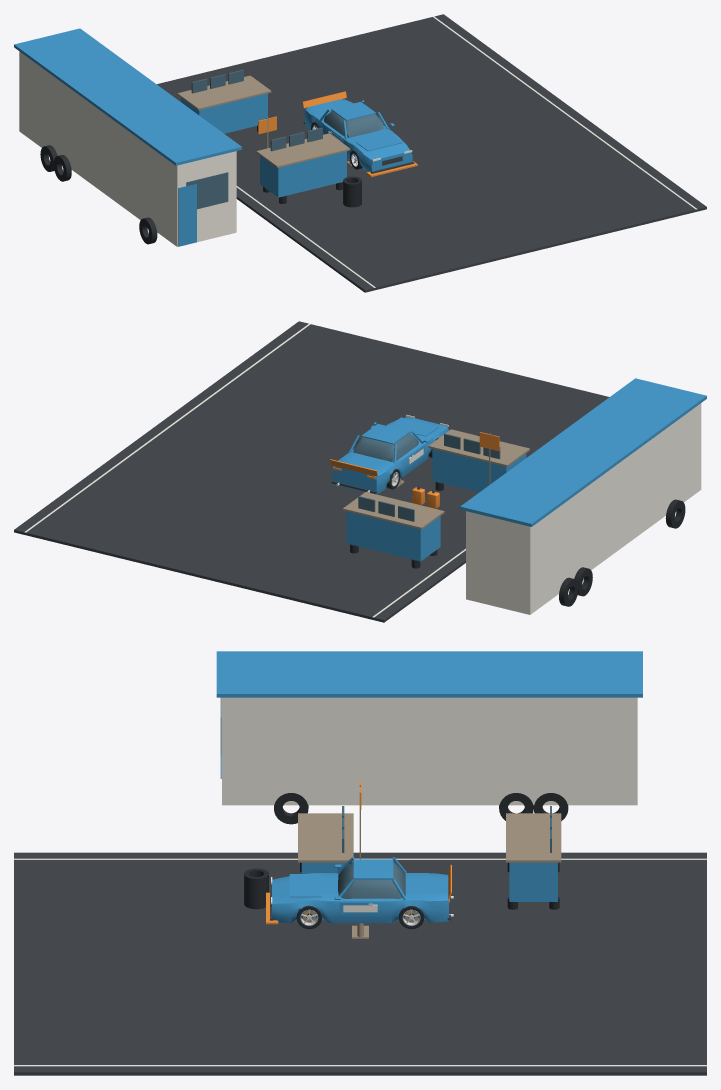
File: stock-car-oval-speedway-speedway-pit-road-62357933__16961.glb
3 renders of one model, top to bottom at view 1: azimuth 30°, elevation 25°; view 2: azimuth 150°, elevation 25°; view 3: azimuth 270°, elevation 25°, orthographic. The views are drawn at different scales.
Visible parts, largest first — view 1: 000-pit-road-straight/0, 004-hauler-transporter/0, 004-hauler-transporter/1, 001-stock-car-on-jack/0, 002-pit-box-war-wagon/0, 003-pit-box-war-wagon/0, 003-pit-box-war-wagon/1, 002-pit-box-war-wagon/1, 004-hauler-transporter/3, 004-hauler-transporter/2, 000-pit-road-straight/1, 001-stock-car-on-jack/1 (+5 smaller); view 2: 000-pit-road-straight/0, 004-hauler-transporter/0, 004-hauler-transporter/1, 001-stock-car-on-jack/0, 003-pit-box-war-wagon/0, 002-pit-box-war-wagon/0, 003-pit-box-war-wagon/1, 004-hauler-transporter/3, 002-pit-box-war-wagon/1, 001-stock-car-on-jack/1, 000-pit-road-straight/1, 003-pit-box-war-wagon/3 (+2 smaller); view 3: 000-pit-road-straight/0, 004-hauler-transporter/0, 004-hauler-transporter/1, 001-stock-car-on-jack/0, 003-pit-box-war-wagon/1, 002-pit-box-war-wagon/1, 000-pit-road-straight/1, 003-pit-box-war-wagon/0, 004-hauler-transporter/3, 001-stock-car-on-jack/1, 006-tyre-stack/0, 001-stock-car-on-jack/bonnet.
Boxes of the visible parts, x1,y1,x2,y2 form: 000-pit-road-straight/0: [157, 14, 706, 292]; 004-hauler-transporter/0: [19, 51, 236, 246]; 004-hauler-transporter/1: [14, 28, 241, 246]; 001-stock-car-on-jack/0: [304, 99, 412, 171]; 002-pit-box-war-wagon/0: [260, 151, 346, 197]; 003-pit-box-war-wagon/0: [181, 93, 267, 133]; 003-pit-box-war-wagon/1: [177, 75, 271, 110]; 002-pit-box-war-wagon/1: [256, 133, 350, 167]; 004-hauler-transporter/3: [40, 145, 157, 244]; 004-hauler-transporter/2: [186, 172, 228, 209]; 000-pit-road-straight/1: [236, 16, 697, 287]; 001-stock-car-on-jack/1: [324, 110, 384, 137]; 000-pit-road-straight/0: [14, 321, 609, 622]; 004-hauler-transporter/0: [466, 403, 701, 614]; 004-hauler-transporter/1: [460, 378, 706, 526]; 001-stock-car-on-jack/0: [332, 417, 448, 494]; 003-pit-box-war-wagon/0: [346, 511, 440, 561]; 002-pit-box-war-wagon/0: [432, 449, 526, 492]; 003-pit-box-war-wagon/1: [343, 492, 444, 529]; 004-hauler-transporter/3: [559, 499, 685, 606]; 002-pit-box-war-wagon/1: [428, 429, 529, 466]; 001-stock-car-on-jack/1: [353, 433, 418, 461]; 000-pit-road-straight/1: [24, 323, 465, 617]; 003-pit-box-war-wagon/3: [358, 496, 414, 521]; 000-pit-road-straight/0: [14, 852, 706, 1075]; 004-hauler-transporter/0: [222, 697, 637, 805]; 004-hauler-transporter/1: [216, 651, 642, 778]; 001-stock-car-on-jack/0: [272, 857, 448, 923]; 003-pit-box-war-wagon/1: [506, 813, 561, 862]; 002-pit-box-war-wagon/1: [298, 813, 353, 862]; 000-pit-road-straight/1: [14, 858, 706, 1066]; 003-pit-box-war-wagon/0: [509, 862, 557, 901]; 004-hauler-transporter/3: [274, 793, 568, 824]; 001-stock-car-on-jack/1: [338, 862, 405, 898]; 006-tyre-stack/0: [244, 868, 268, 909]; 001-stock-car-on-jack/bonnet: [289, 874, 321, 897].
Size of the model in its own units: 19.99 by 4.22 by 20.
